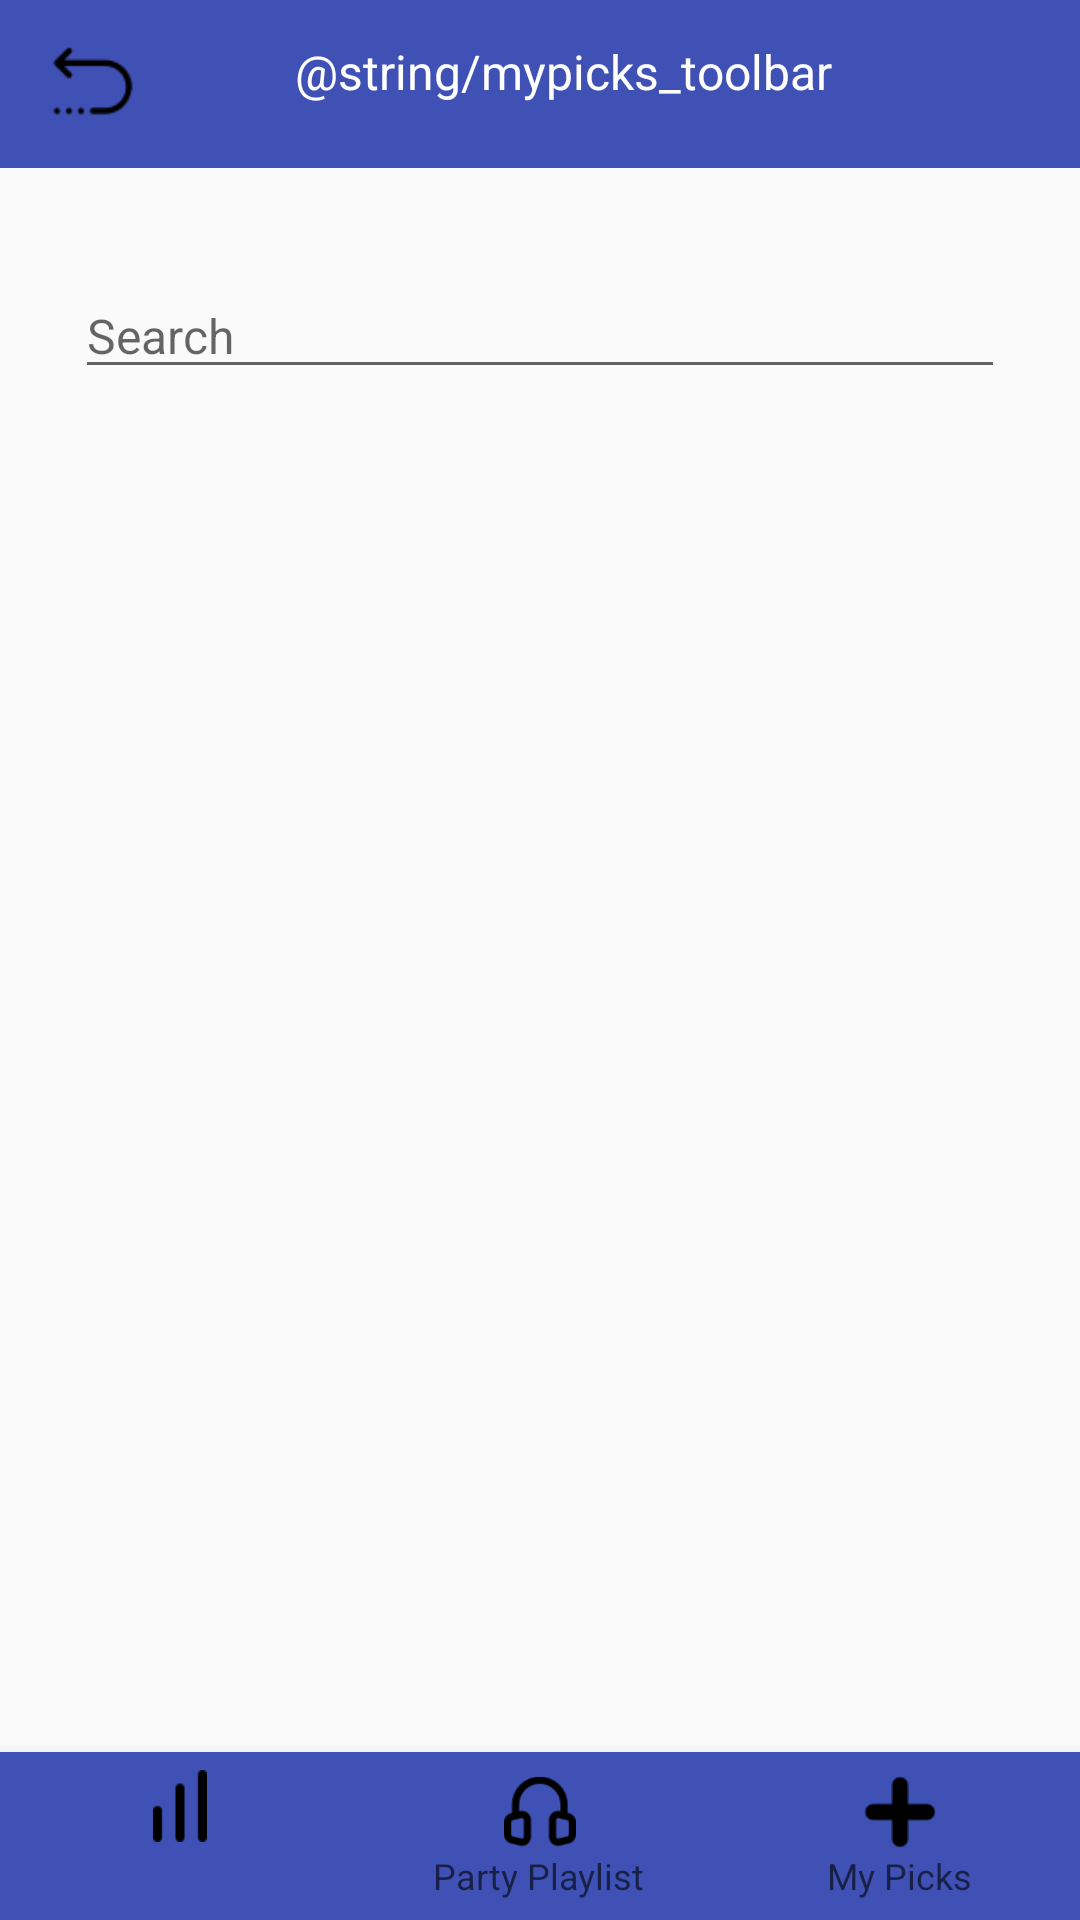

Icons on this 1080px x 1920px Android screen, each with the point to tap as (x=x, y=y):
return: (x=93, y=81)
